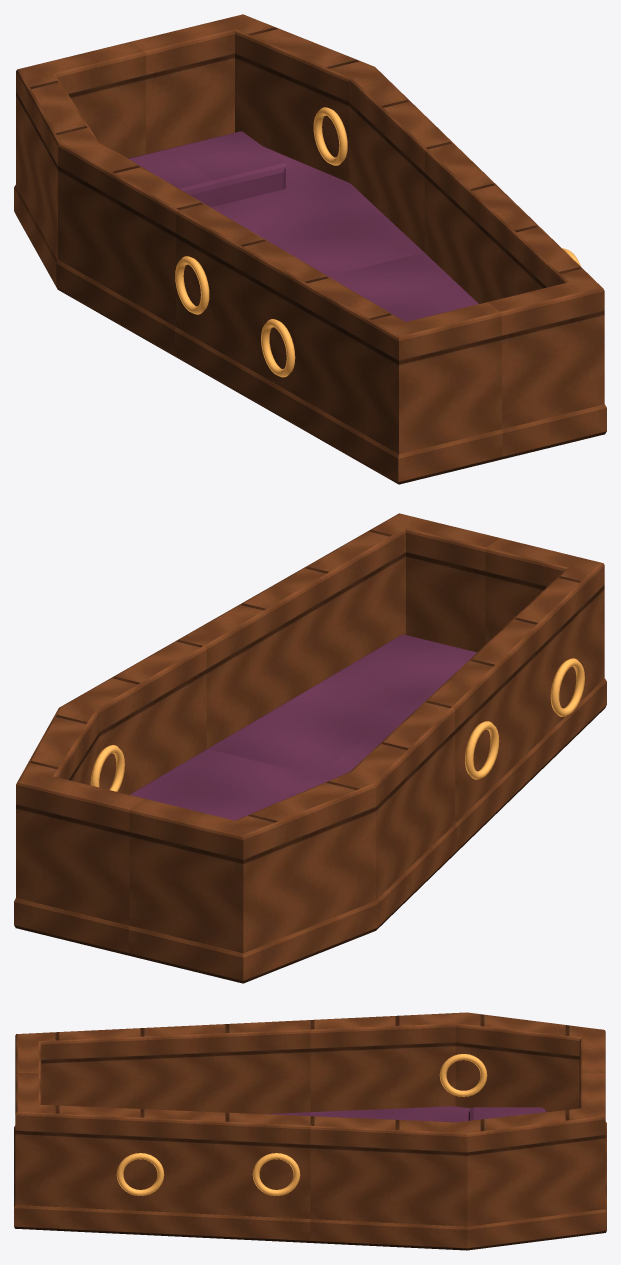
Rendered from hollowwick-halloween-velvet-lined-open-coffin-ecf754ca__21626.glb.
3 views of the same model, one above another, from view 1: azimuth 30°, elevation 25°; view 2: azimuth 150°, elevation 25°; view 3: azimuth 270°, elevation 25° (orthographic). The views are drawn at different scales.
Visible parts, largest first — view 1: velvet-lined-open-coffin; view 2: velvet-lined-open-coffin; view 3: velvet-lined-open-coffin.
Boxes of the visible parts, x1,y1,x2,y2 form: velvet-lined-open-coffin: (14, 14, 606, 484); velvet-lined-open-coffin: (14, 513, 606, 983); velvet-lined-open-coffin: (14, 1012, 606, 1250).
Bounding box in the file's own units: 0.8644 × 0.38 × 1.74.
Materials: 3 (2 with a texture image).
